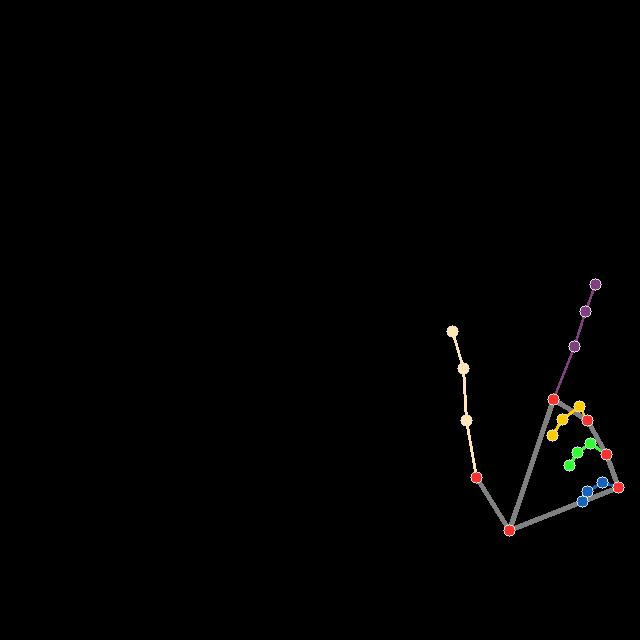gun: (443, 278, 630, 538)
